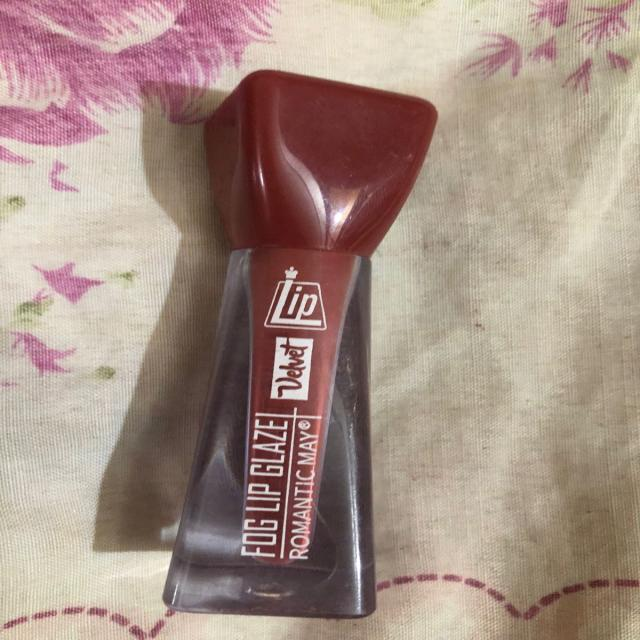lip gloss: (129, 55, 462, 635)
